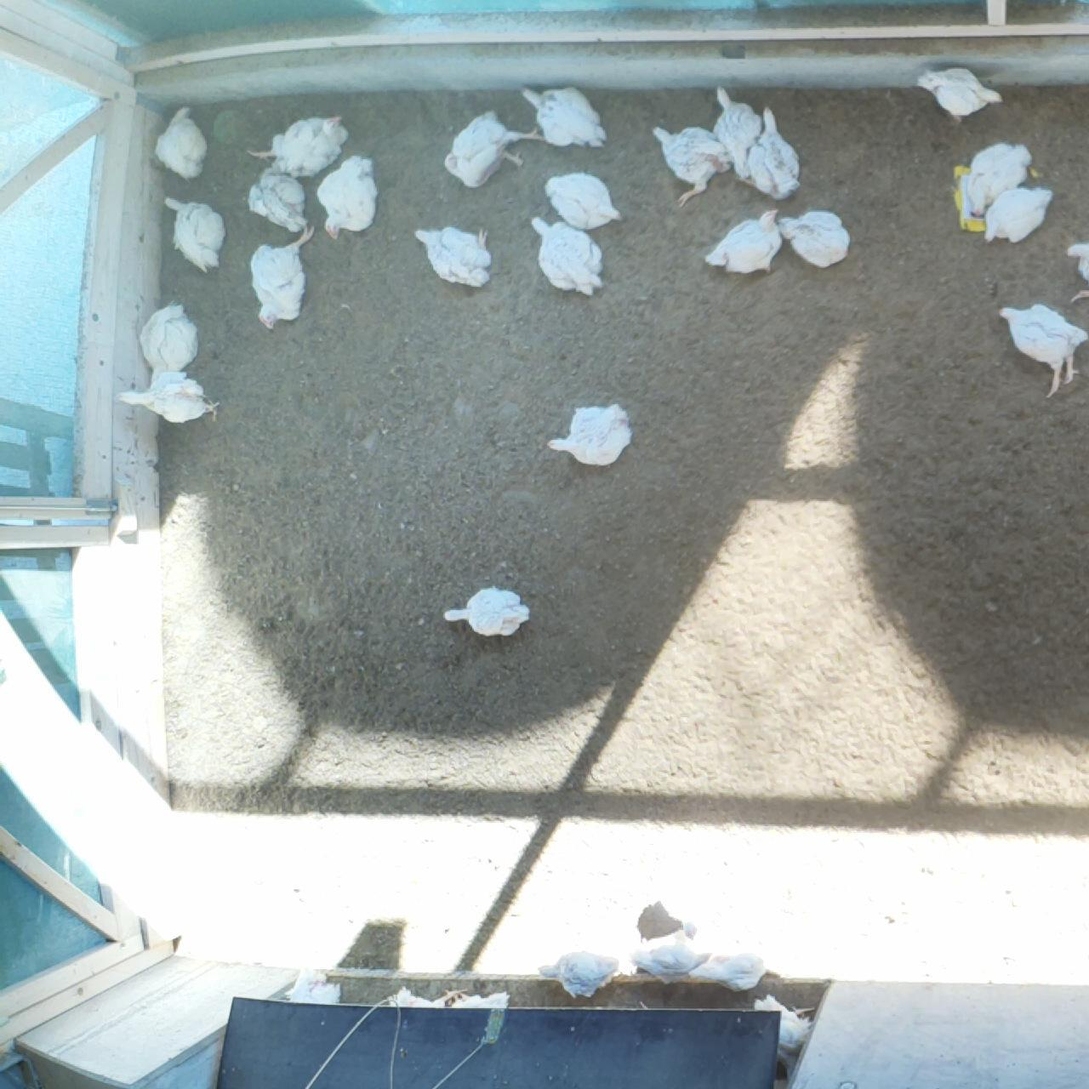chicken: (995, 302, 1089, 396), (442, 105, 540, 194), (248, 224, 316, 331), (650, 119, 731, 207), (529, 213, 608, 299), (247, 109, 348, 172), (119, 368, 226, 426), (545, 400, 632, 470), (964, 138, 1035, 223), (520, 82, 611, 148), (742, 105, 804, 201), (413, 220, 493, 292), (135, 300, 200, 388), (751, 992, 817, 1076), (709, 82, 763, 181), (706, 208, 781, 279), (322, 153, 382, 241), (621, 929, 713, 986), (917, 64, 1005, 122), (542, 169, 622, 231), (443, 583, 533, 637), (164, 195, 224, 273), (778, 206, 852, 268), (536, 949, 624, 1001), (984, 183, 1054, 245), (153, 104, 208, 181), (247, 167, 308, 235), (688, 946, 770, 993), (279, 965, 341, 1011), (386, 986, 467, 1015), (1066, 239, 1089, 306), (450, 988, 512, 1012)
